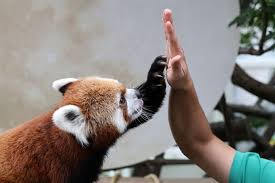redPanda: (0, 49, 164, 183)
